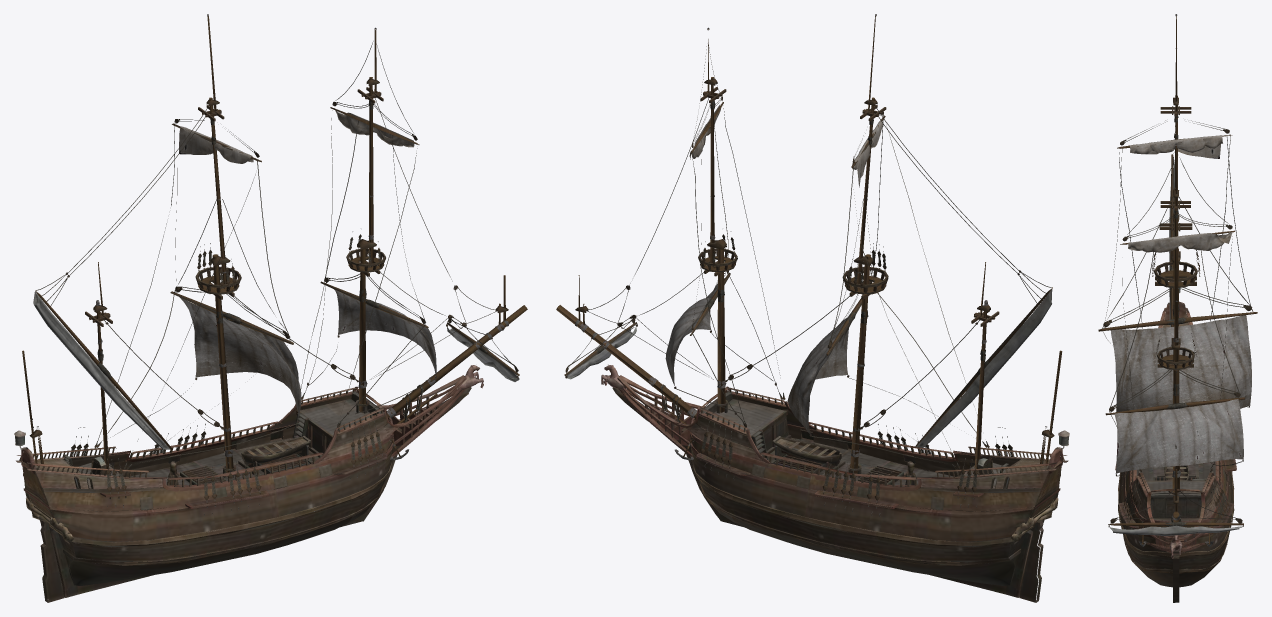
The model's file is dutch_ship_medium.glb.
3 renders of one model, left to right at view 1: azimuth 30°, elevation 25°; view 2: azimuth 150°, elevation 25°; view 3: azimuth 270°, elevation 25°, orthographic. The views are drawn at different scales.
Visible parts, largest first — view 1: dutch_ship_medium_hull, dutch_ship_medium_rigging, dutch_ship_medium_sails; view 2: dutch_ship_medium_hull, dutch_ship_medium_rigging, dutch_ship_medium_sails; view 3: dutch_ship_medium_sails, dutch_ship_medium_rigging, dutch_ship_medium_hull.
Boxes of the visible parts, x1=… form: dutch_ship_medium_hull: x1=14, y1=365, x2=483, y2=602; dutch_ship_medium_rigging: x1=22, y1=14, x2=527, y2=515; dutch_ship_medium_sails: x1=179, y1=108, x2=436, y2=419; dutch_ship_medium_hull: x1=601, y1=364, x2=1069, y2=602; dutch_ship_medium_rigging: x1=556, y1=14, x2=1062, y2=516; dutch_ship_medium_sails: x1=665, y1=104, x2=882, y2=433; dutch_ship_medium_sails: x1=1110, y1=135, x2=1251, y2=473; dutch_ship_medium_rigging: x1=1098, y1=14, x2=1257, y2=546; dutch_ship_medium_hull: x1=1115, y1=288, x2=1236, y2=602.
Bounding box in the file's own units: 24.07 × 24.61 × 6.81.
Materials: 3 (3 with a texture image).
